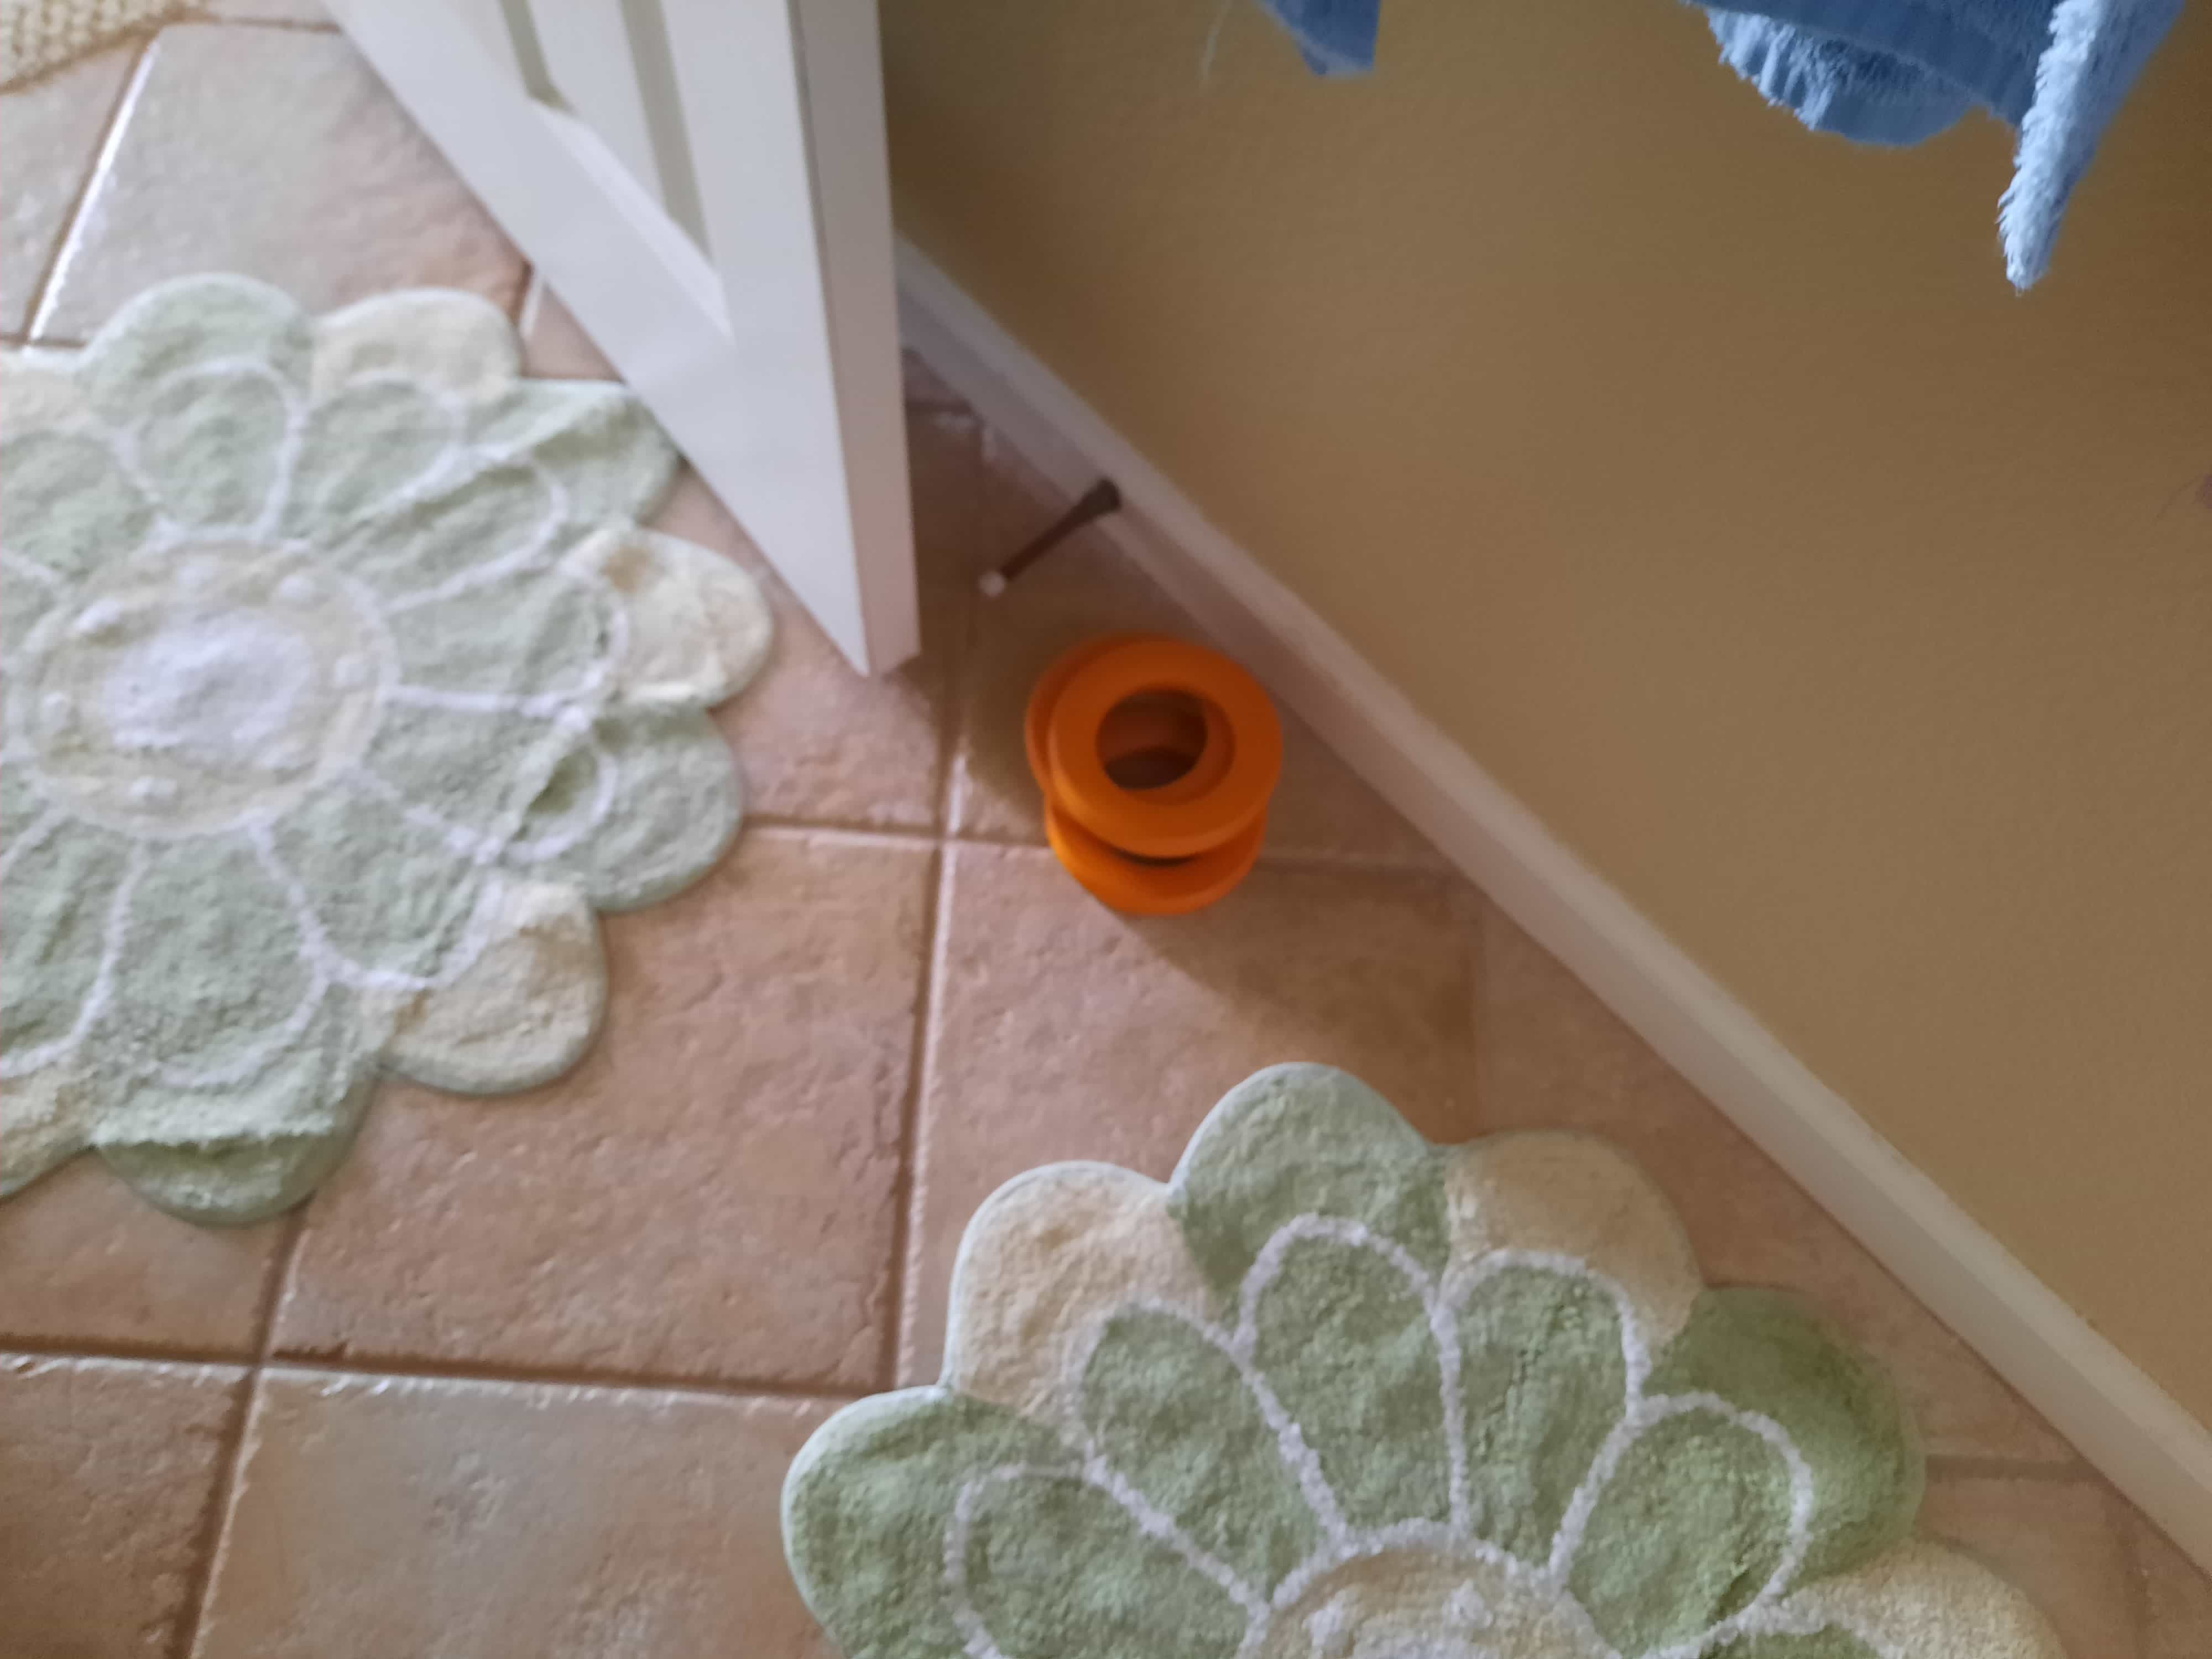FourStack: (1012, 647, 1278, 911)
